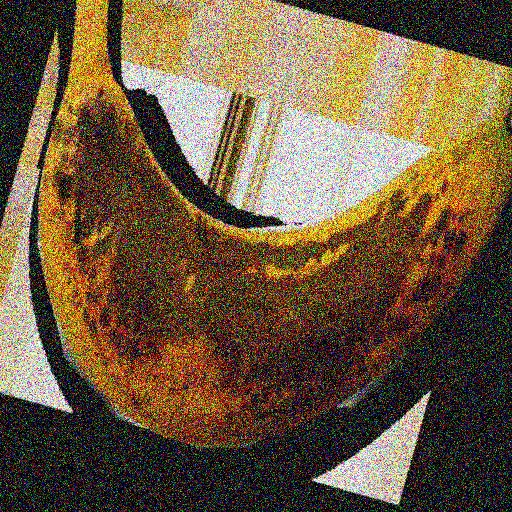fruit: (431, 135, 512, 364)
